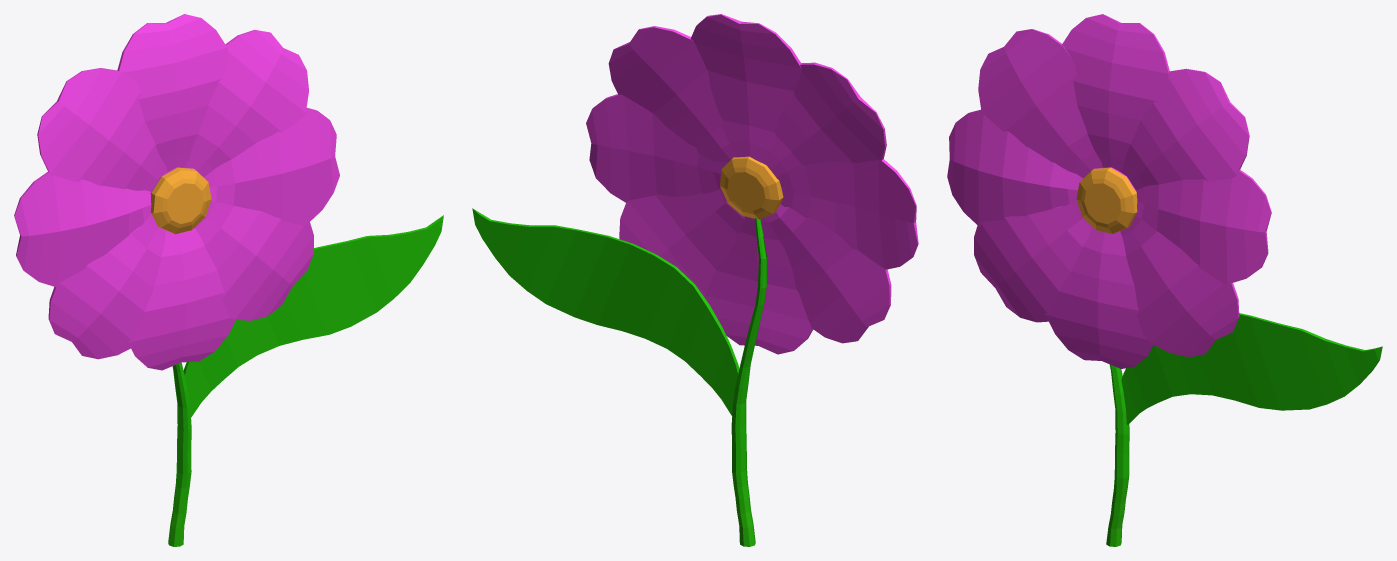
Rendered from Flor-rosa.fbx.
3 views of the same model, side by side, from view 1: azimuth 30°, elevation 25°; view 2: azimuth 150°, elevation 25°; view 3: azimuth 330°, elevation 25° (orthographic). The views are drawn at different scales.
Parts seen in each view (by area): view 1: Cube.008; view 2: Cube.008; view 3: Cube.008.
Boxes of the visible parts, x1=… form: Cube.008: x1=14, y1=14, x2=443, y2=546; Cube.008: x1=472, y1=14, x2=918, y2=546; Cube.008: x1=947, y1=14, x2=1382, y2=546.
Size of the model in its own units: 360 by 414 by 32.35.
Materials: 1 (1 with a texture image).
